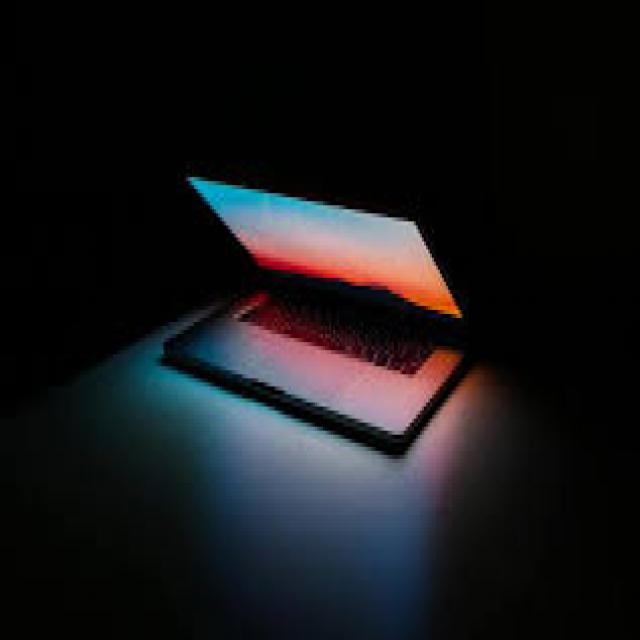others: (127, 149, 485, 471)
